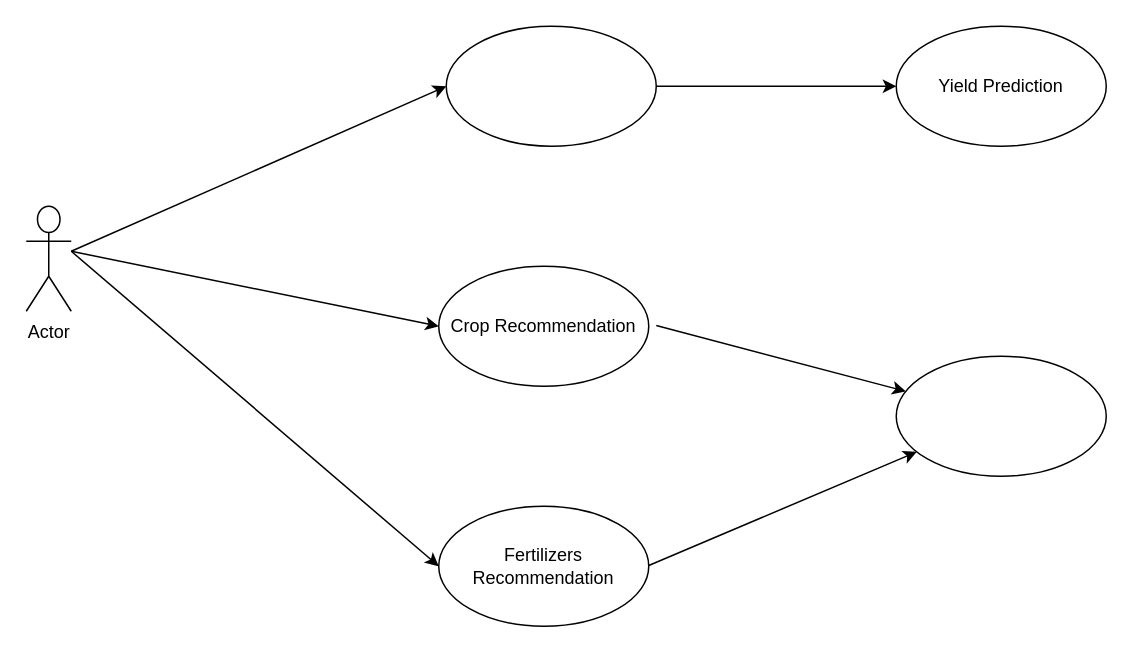
The diagram is 1133 pixels wide and 653 high, and some of its shapes have lost their labels. Here are the shapes that lost their labels. From the top down, the centre of each, then its label:
pixel 550 85: Crop Yield Prediction
pixel 1000 415: Recommendation
